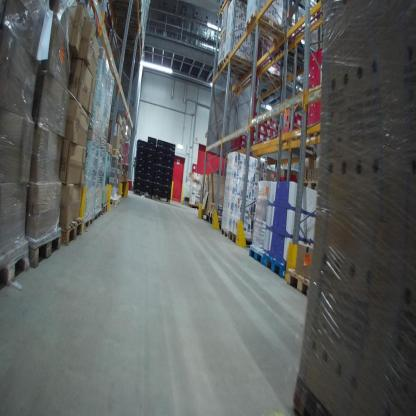pallet: (290, 371, 344, 415), (26, 228, 65, 272), (245, 8, 287, 44), (1, 238, 30, 289), (217, 54, 259, 82), (287, 32, 320, 64), (260, 250, 289, 285), (58, 212, 87, 247), (222, 49, 258, 76), (284, 268, 311, 296), (229, 229, 254, 247), (298, 175, 320, 195), (247, 243, 264, 264), (84, 208, 96, 235), (204, 211, 222, 225), (131, 187, 152, 199), (217, 1, 237, 13), (93, 204, 104, 224), (152, 194, 170, 204), (102, 140, 114, 155), (108, 196, 120, 210), (101, 200, 110, 215), (114, 146, 122, 159), (218, 229, 228, 237)
